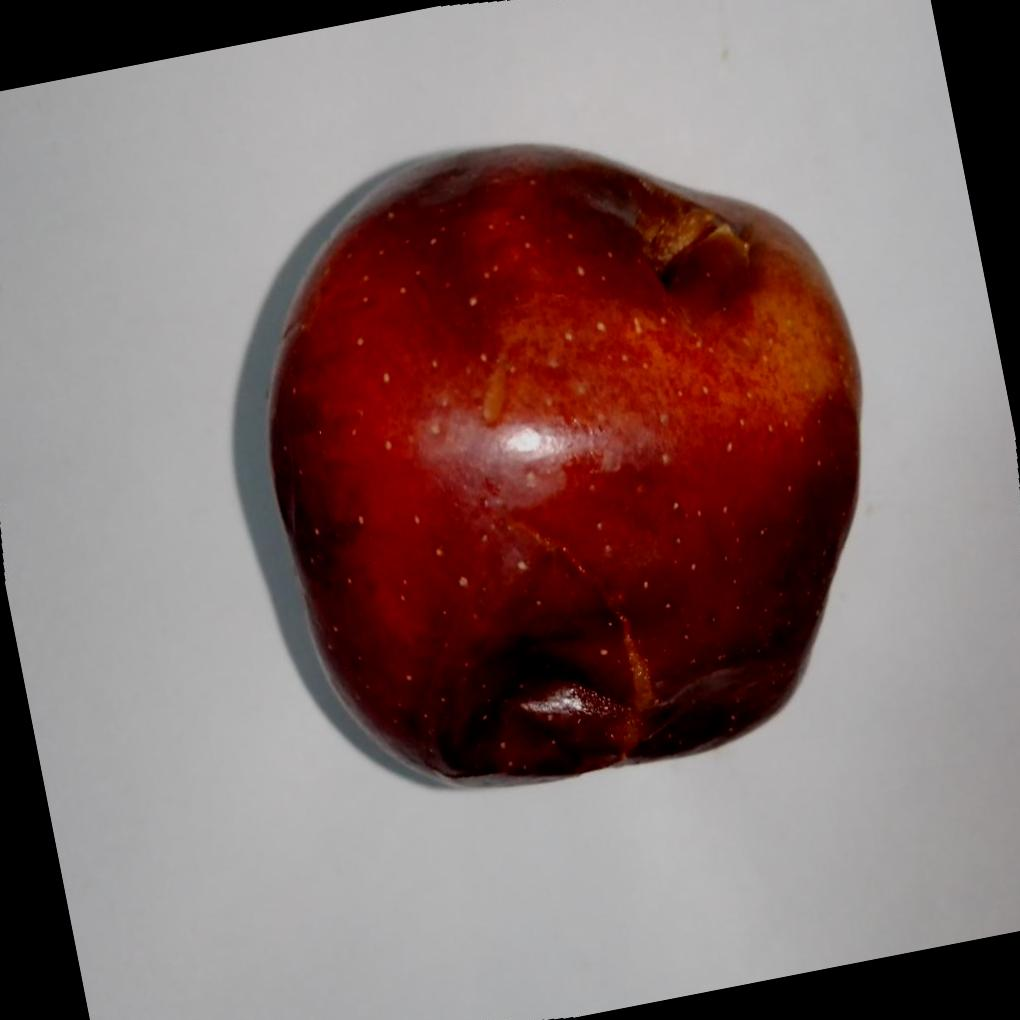FreshOrange: (236, 140, 867, 789)
